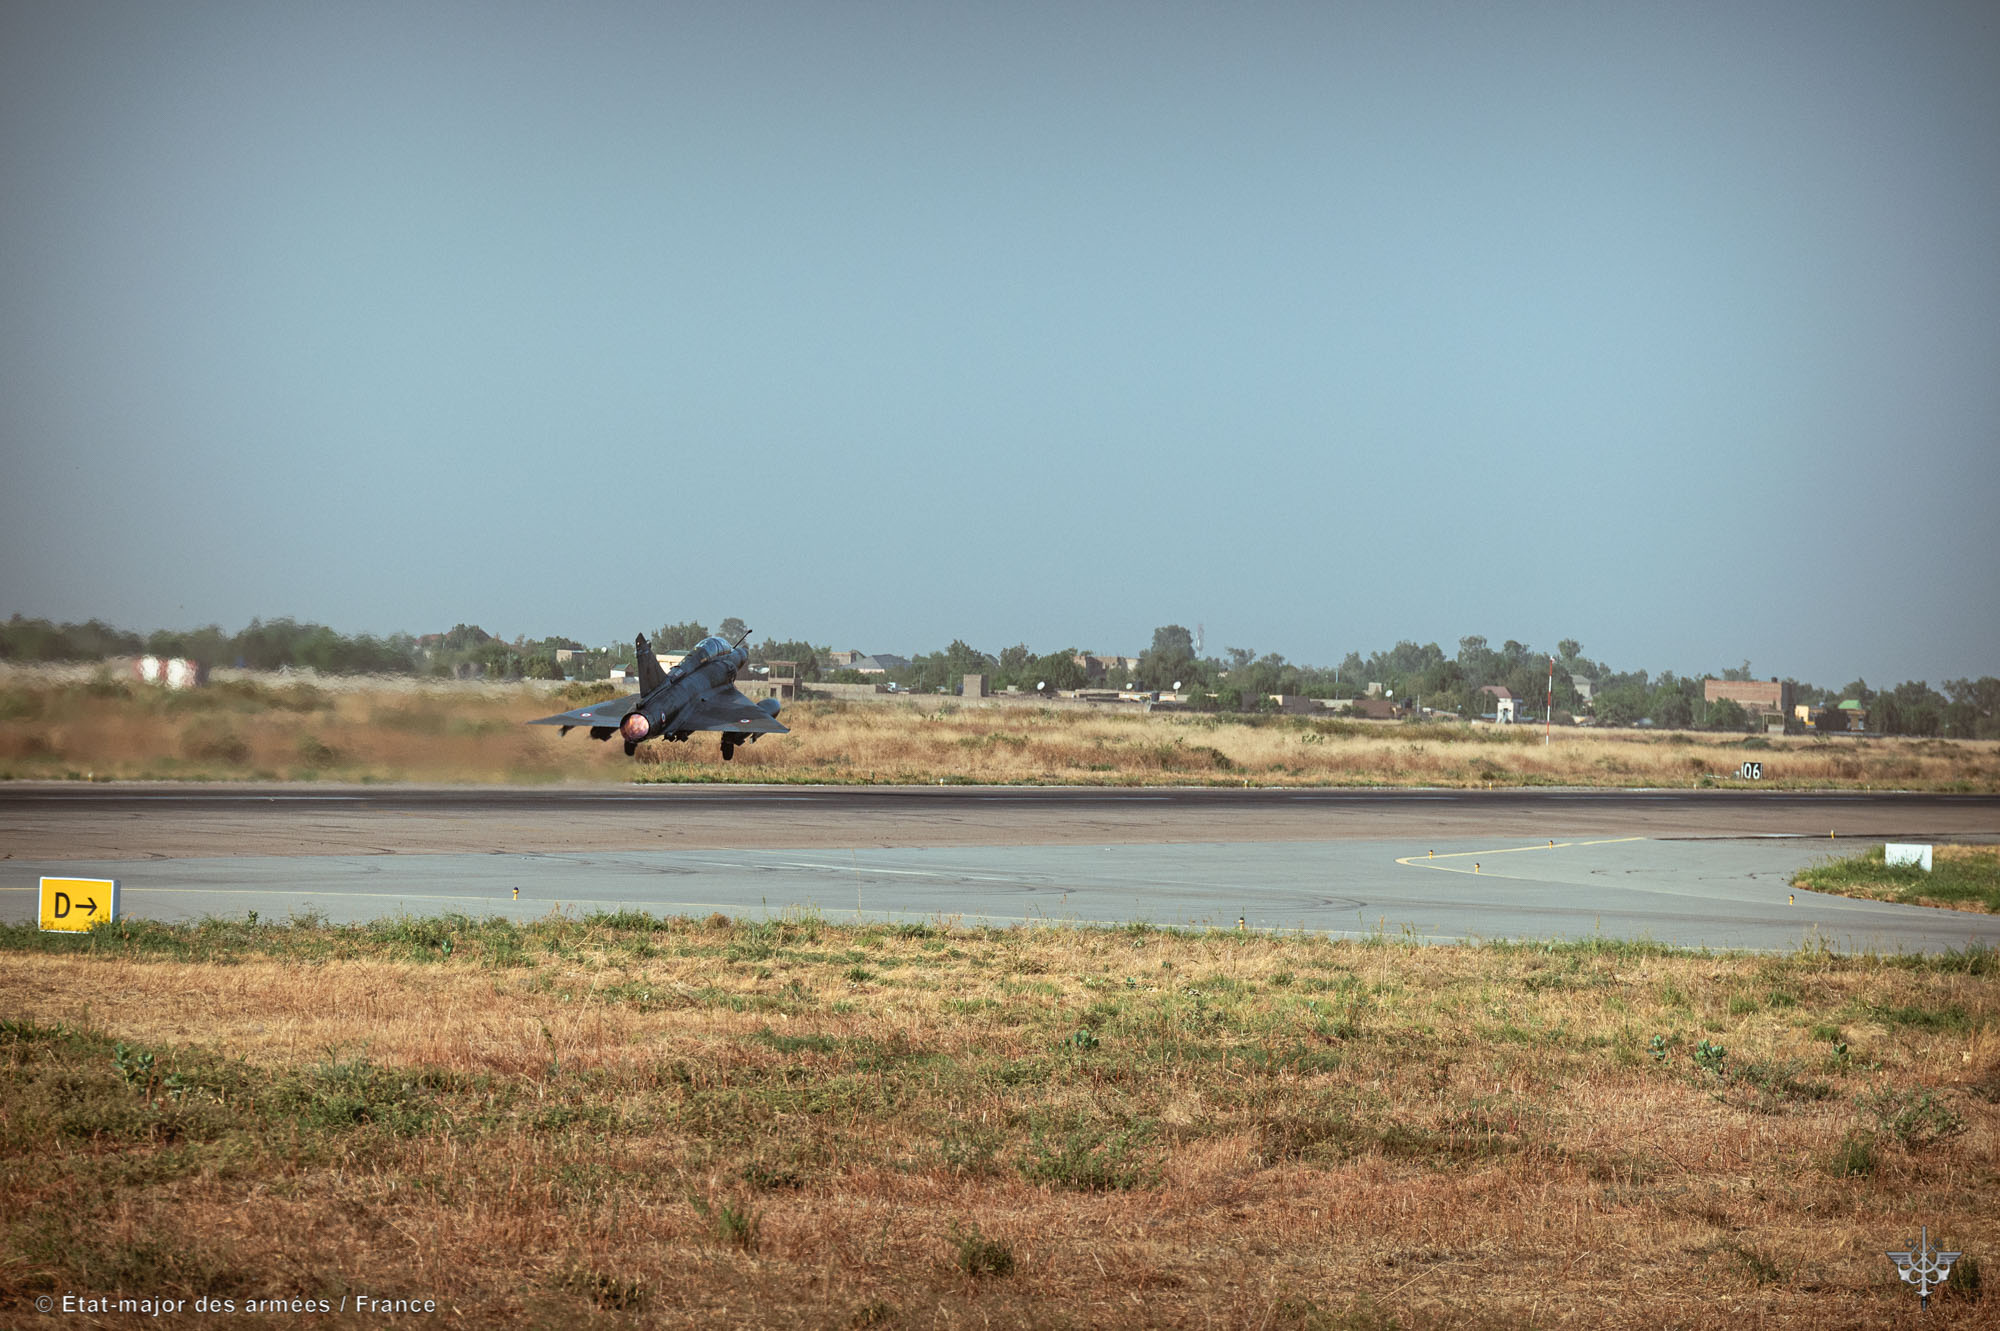Mirage2000: (524, 628, 791, 761)
